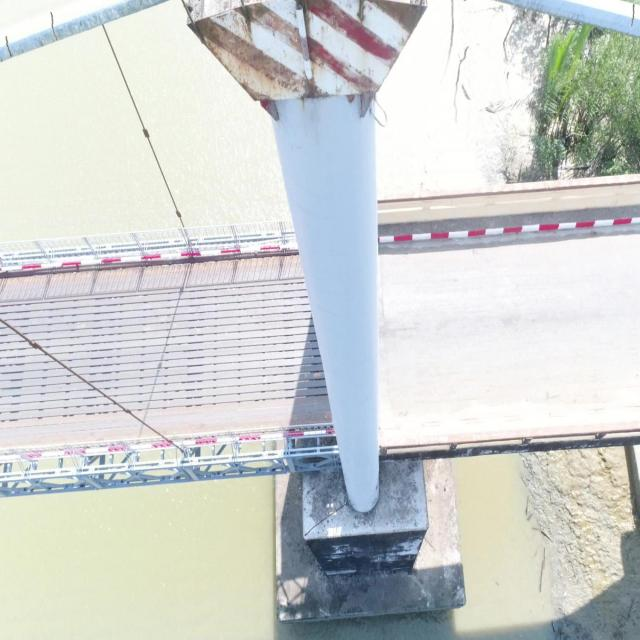crack: (50, 12, 58, 41), (4, 34, 13, 59), (631, 3, 637, 27)
